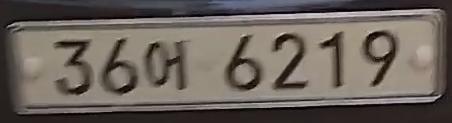1: (312, 26, 356, 88)
2: (268, 30, 312, 95)
3: (49, 36, 98, 99)
6: (218, 29, 268, 94), (98, 35, 143, 98)
9: (356, 26, 403, 91)
어: (143, 35, 196, 94)
